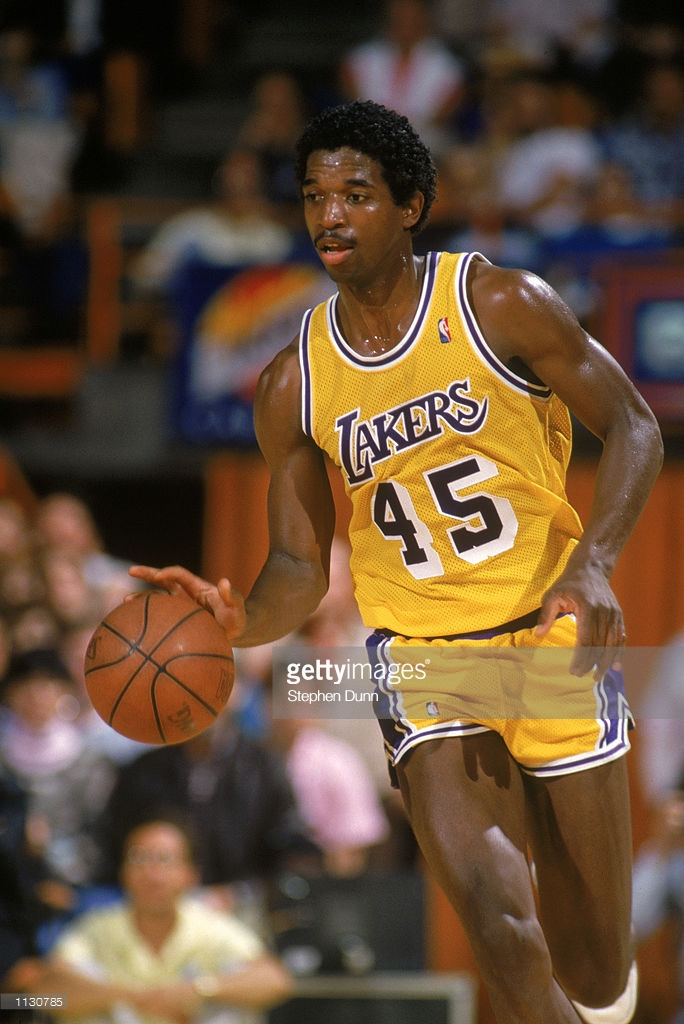basketball: (78, 591, 241, 749)
basketball player: (241, 87, 652, 1020)
